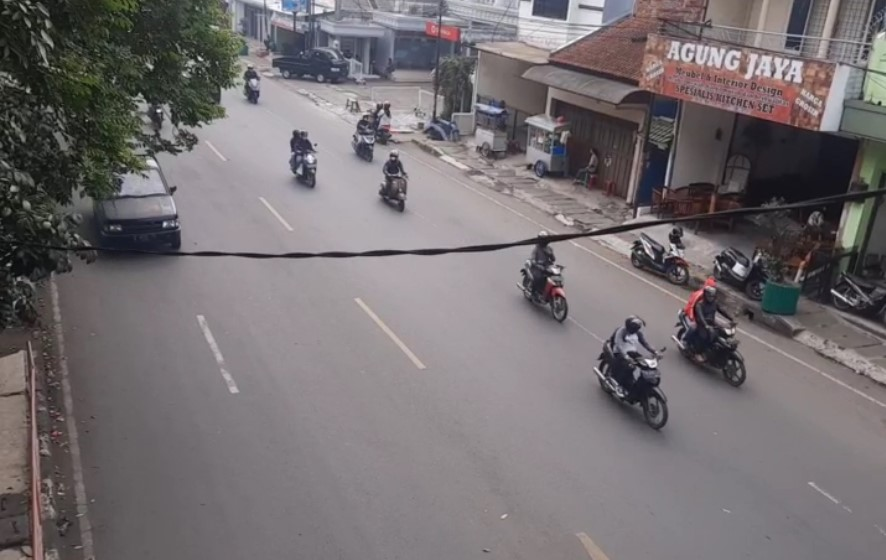motor: (678, 284, 751, 397), (601, 315, 669, 430), (511, 226, 573, 319), (288, 126, 319, 185), (380, 153, 407, 210), (351, 114, 378, 162)
